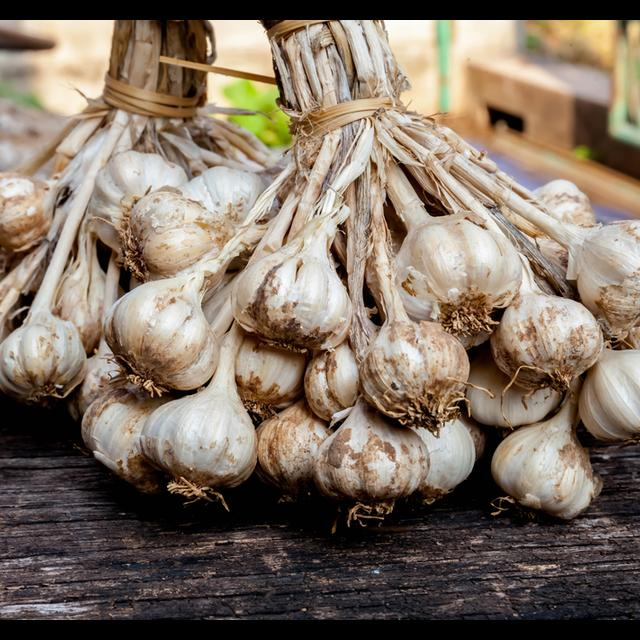garlic: (233, 234, 352, 346), (105, 280, 217, 391), (397, 216, 521, 316), (140, 384, 253, 491), (363, 314, 467, 424), (313, 419, 422, 523), (493, 428, 606, 517), (120, 187, 227, 271), (498, 294, 596, 383), (0, 302, 87, 394), (577, 211, 640, 318), (580, 349, 640, 444)
